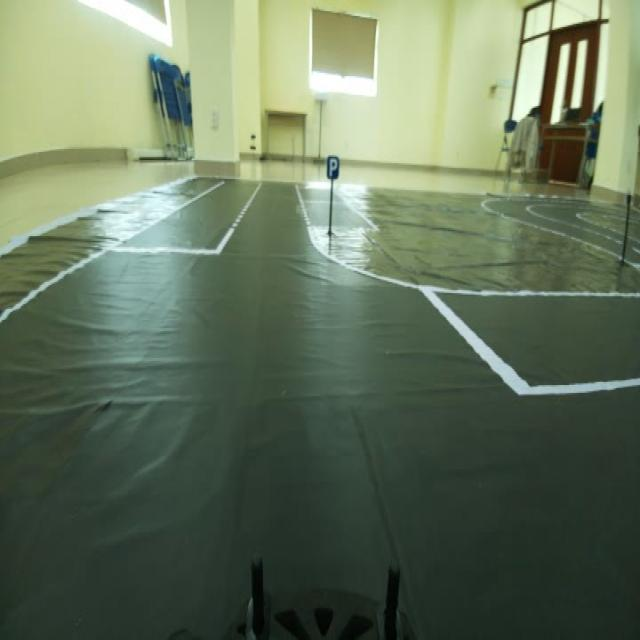parking: (323, 147, 342, 183)
